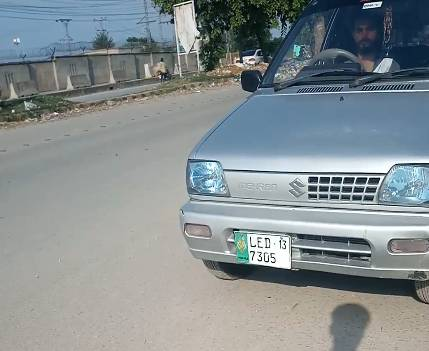number_plate: (230, 231, 296, 270)
